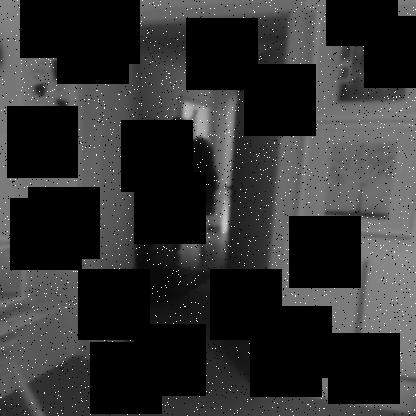Porte: (76, 0, 310, 396)
